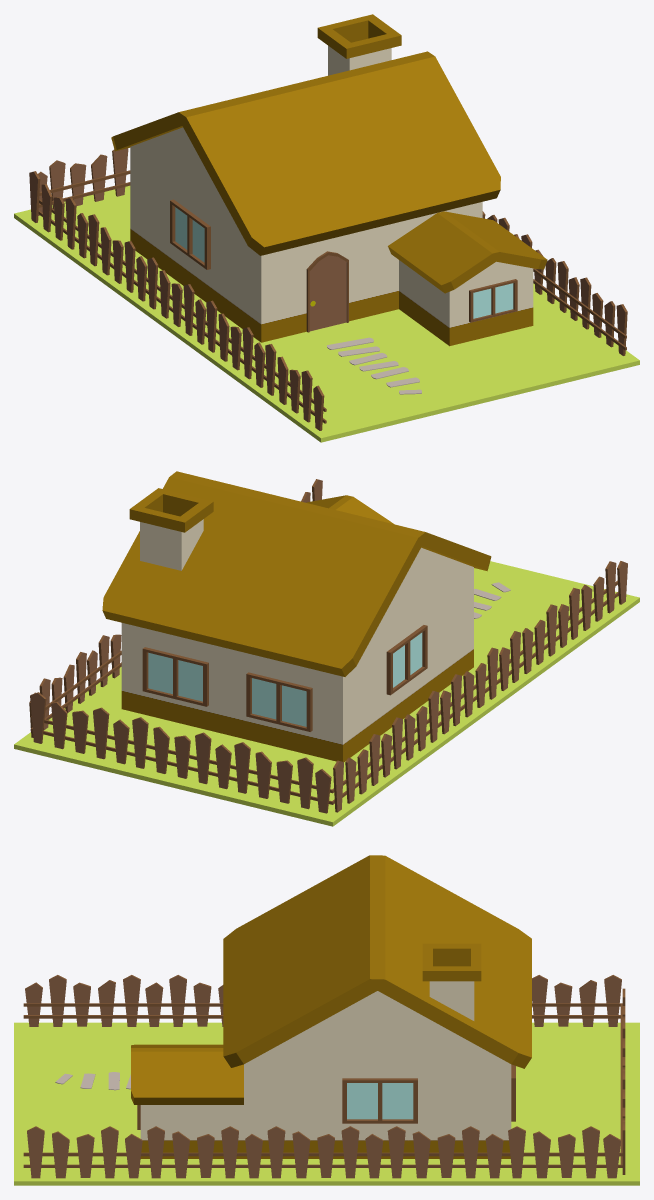
Rendered from House_04.fbx.
3 renders of one model, top to bottom at view 1: azimuth 30°, elevation 25°; view 2: azimuth 150°, elevation 25°; view 3: azimuth 270°, elevation 25°, orthographic.
Visible parts, largest first — view 1: House_04_Unmerged2; view 2: House_04_Unmerged2; view 3: House_04_Unmerged2.
Part boxes in pixels (bbox=[...]): House_04_Unmerged2: bbox=[14, 14, 639, 442]; House_04_Unmerged2: bbox=[14, 471, 639, 826]; House_04_Unmerged2: bbox=[14, 855, 639, 1185].
Size of the model in its own units: 33.75 by 19.41 by 56.25.
6 materials, 6 textured.
